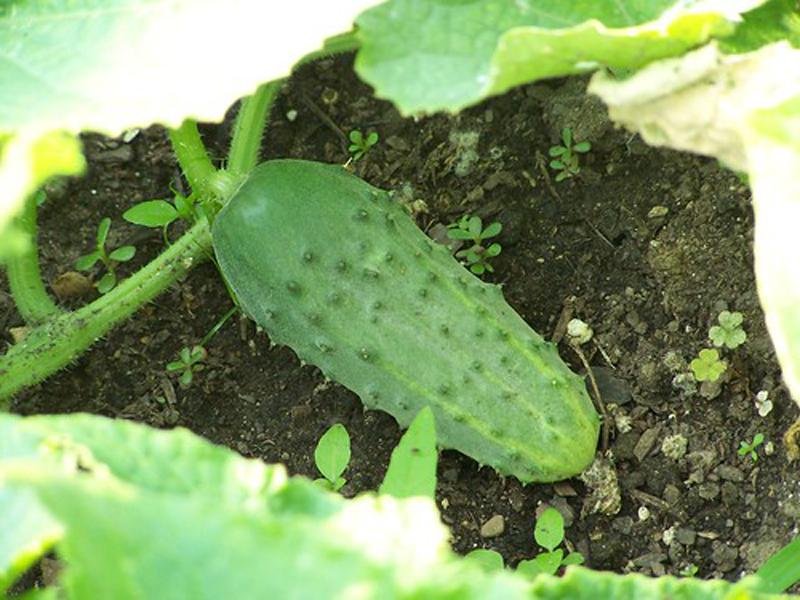Cucumber: (209, 157, 599, 482)
